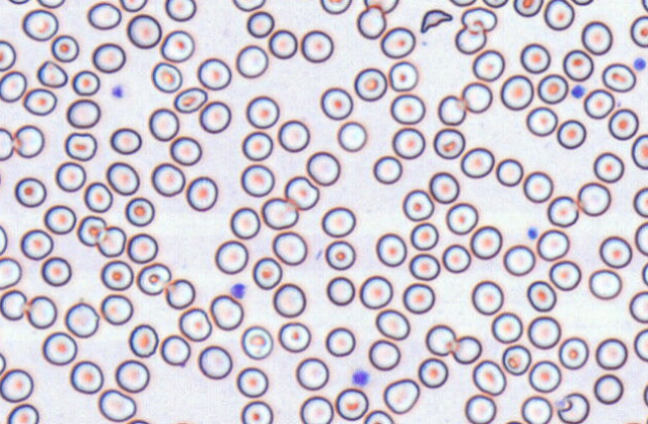PLT: (351, 369, 369, 387), (230, 281, 246, 299), (570, 84, 586, 99), (111, 84, 124, 100), (633, 57, 647, 71), (527, 226, 540, 241)
RBC: (382, 378, 419, 414), (97, 388, 136, 422), (471, 359, 506, 395), (64, 301, 99, 337), (284, 175, 319, 210), (126, 13, 161, 48), (272, 230, 307, 265), (209, 294, 243, 330), (41, 331, 77, 365), (21, 8, 58, 41), (306, 151, 340, 186), (114, 359, 149, 393), (197, 345, 232, 379), (214, 239, 248, 274), (272, 282, 306, 317), (577, 181, 611, 216), (500, 74, 533, 110), (261, 197, 298, 229), (151, 162, 185, 196), (240, 163, 274, 197), (69, 360, 103, 394), (178, 307, 212, 341), (353, 67, 387, 101), (359, 275, 393, 309), (24, 294, 57, 329), (136, 262, 171, 295), (185, 175, 217, 211), (471, 279, 503, 315), (0, 368, 33, 402), (160, 29, 194, 62), (528, 359, 561, 393), (320, 86, 353, 120), (295, 357, 329, 390), (235, 44, 268, 78), (469, 225, 502, 259), (527, 315, 560, 349), (240, 325, 273, 359), (245, 95, 279, 128), (197, 57, 231, 90), (106, 161, 139, 195), (598, 235, 632, 268), (375, 308, 410, 340), (380, 26, 415, 58), (375, 232, 407, 267), (300, 29, 333, 62), (198, 100, 231, 133), (536, 228, 569, 261), (335, 387, 368, 420), (391, 127, 425, 159), (588, 268, 622, 300), (390, 93, 425, 124), (581, 20, 612, 55), (91, 42, 126, 73), (424, 323, 456, 356), (471, 49, 504, 81), (20, 228, 53, 260), (100, 293, 133, 325), (445, 202, 478, 234), (277, 119, 309, 152), (595, 337, 627, 370), (148, 107, 179, 141), (321, 206, 355, 237), (460, 147, 494, 178), (13, 124, 44, 158), (277, 321, 311, 352), (601, 62, 636, 92), (460, 6, 497, 34), (433, 127, 465, 159), (503, 244, 535, 276), (402, 282, 434, 314), (402, 189, 434, 221), (169, 135, 202, 166), (229, 206, 260, 239), (100, 259, 133, 290), (548, 259, 581, 290), (356, 5, 386, 39), (128, 323, 158, 357), (66, 98, 100, 128), (95, 225, 126, 257), (159, 334, 190, 366), (461, 81, 492, 113), (126, 232, 158, 263), (491, 311, 522, 343), (151, 61, 182, 93), (236, 366, 268, 397), (241, 130, 273, 161), (583, 88, 615, 119), (368, 339, 400, 370), (562, 49, 593, 81), (547, 195, 578, 227), (593, 151, 624, 183), (608, 108, 639, 140), (14, 176, 46, 207), (252, 256, 282, 289), (43, 204, 76, 234), (523, 170, 553, 203), (64, 131, 97, 161), (558, 336, 588, 369), (87, 1, 121, 30), (164, 278, 195, 309), (55, 161, 86, 192), (537, 73, 568, 104), (417, 357, 448, 388), (519, 42, 550, 73), (324, 239, 355, 270), (76, 214, 106, 246), (429, 171, 459, 203), (525, 106, 557, 136), (526, 280, 556, 312), (337, 120, 367, 152), (464, 393, 496, 423), (299, 395, 333, 423), (22, 87, 56, 115), (451, 334, 482, 364), (543, 0, 574, 30), (83, 181, 113, 212), (388, 60, 418, 91), (501, 344, 531, 375), (593, 373, 623, 404), (40, 256, 71, 286), (454, 25, 486, 54), (173, 86, 207, 113), (124, 196, 154, 226), (325, 326, 355, 356), (556, 119, 586, 149), (441, 243, 471, 273), (437, 94, 466, 125), (36, 59, 67, 88), (268, 28, 297, 59), (408, 252, 440, 280), (520, 395, 552, 423), (372, 155, 402, 184), (109, 127, 141, 154), (326, 276, 355, 305), (0, 289, 27, 320), (0, 70, 26, 102), (495, 157, 523, 186), (50, 34, 79, 62), (246, 10, 274, 38), (410, 222, 438, 250), (71, 69, 100, 96), (240, 400, 273, 423), (0, 256, 22, 289), (164, 0, 196, 21), (6, 403, 39, 423), (629, 290, 647, 323), (631, 133, 647, 169), (630, 15, 647, 47), (0, 39, 16, 71), (513, 0, 543, 17), (363, 0, 399, 13), (633, 328, 647, 361), (319, 0, 352, 14), (634, 221, 647, 255), (633, 186, 647, 217), (363, 409, 394, 423), (0, 127, 13, 160), (232, 0, 265, 11), (119, 0, 147, 12), (36, 0, 65, 8), (0, 224, 7, 255), (482, 0, 508, 8), (448, 0, 476, 7), (641, 260, 648, 286), (0, 352, 6, 375), (571, 0, 594, 6), (125, 418, 150, 423), (643, 382, 648, 407), (503, 419, 525, 424), (171, 420, 194, 424), (7, 0, 30, 4), (641, 0, 648, 12), (620, 421, 643, 424), (0, 165, 2, 190)
Schistocyte: (559, 393, 590, 424), (421, 10, 453, 34)
